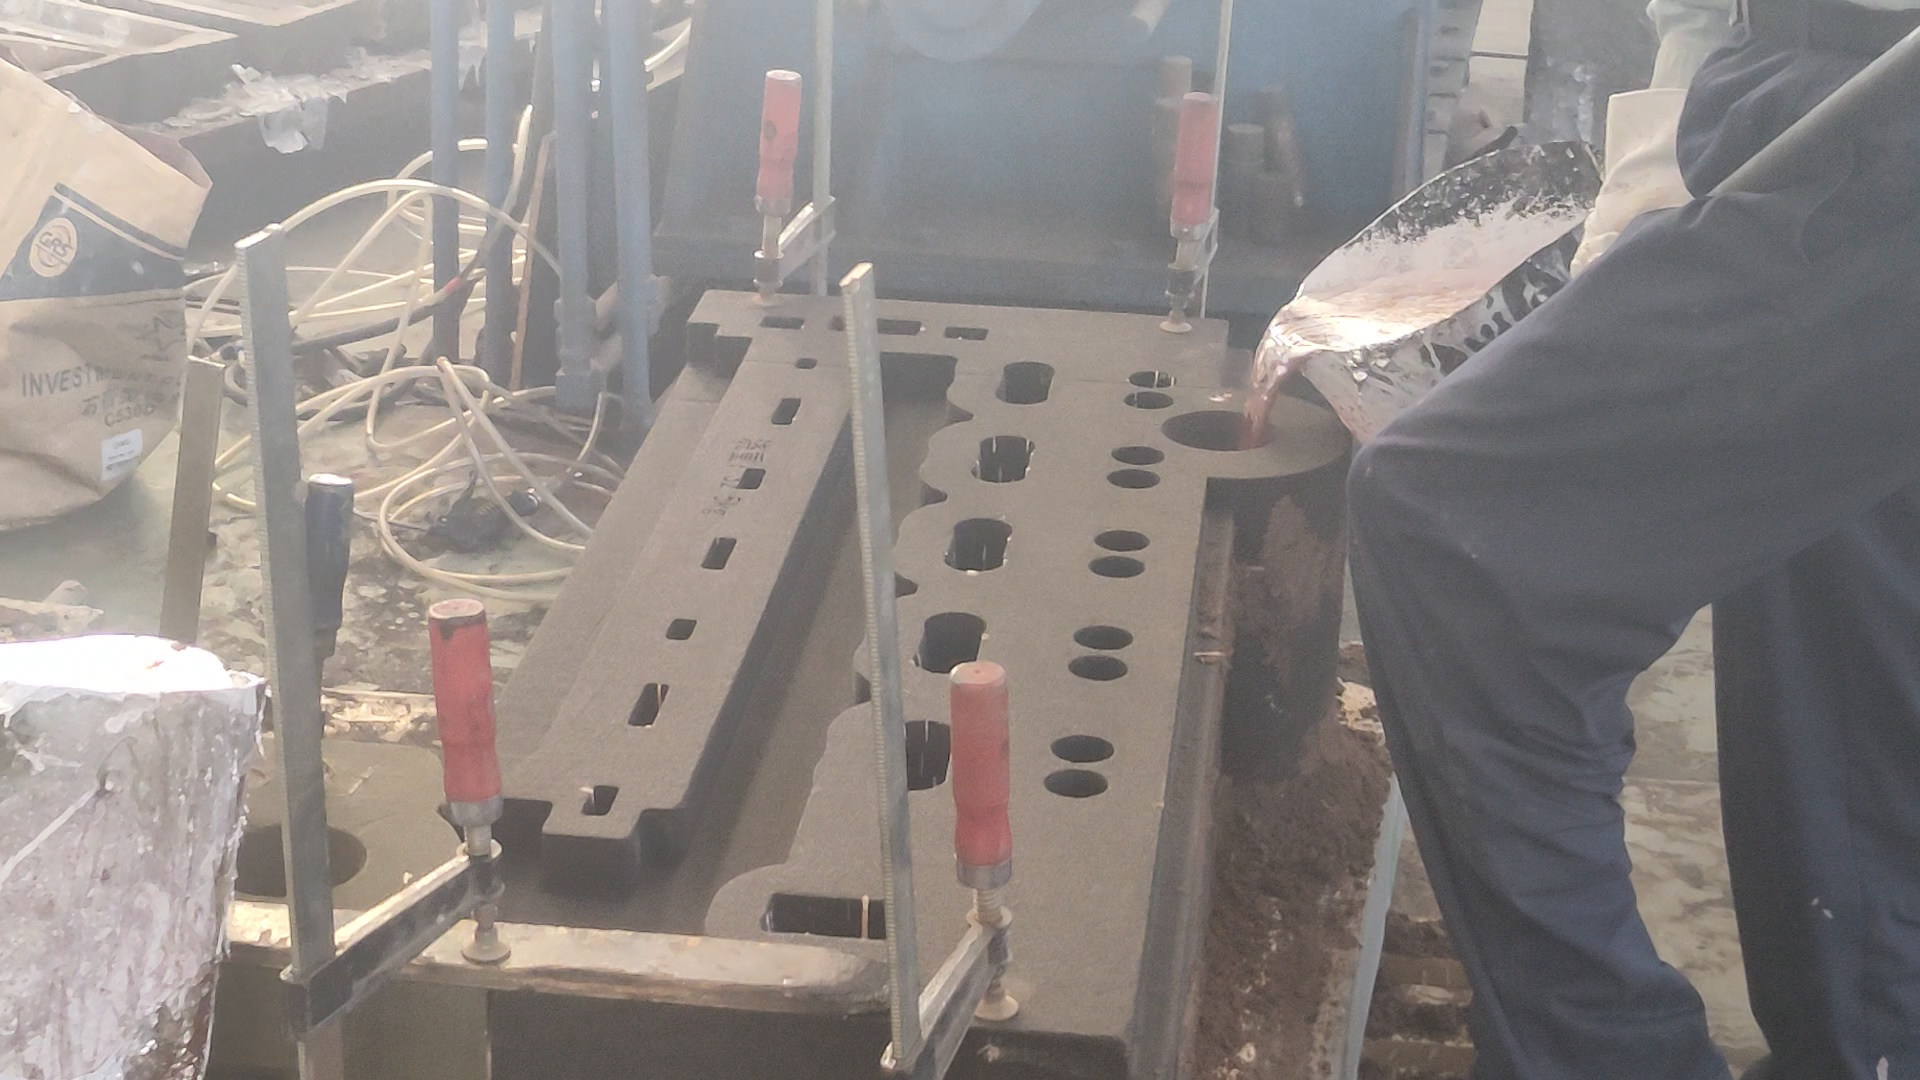pouring hole: (220, 819, 369, 899), (1160, 409, 1276, 454)
